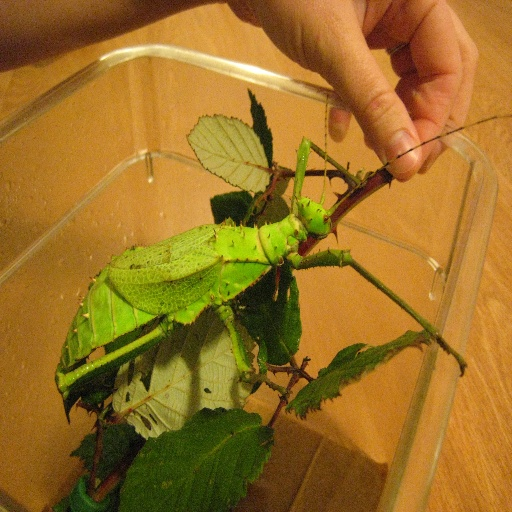hand: (238, 15, 486, 193)
